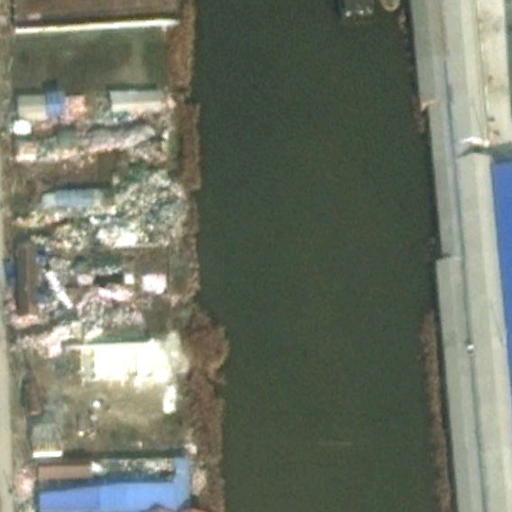msw: (15, 88, 186, 358)
